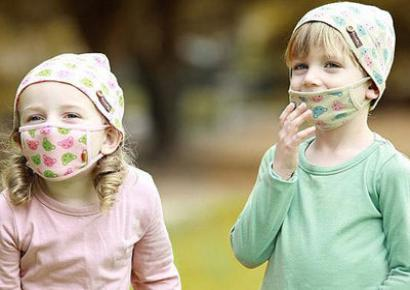OK: (16, 99, 96, 179)
WRONG: (286, 48, 366, 128)
